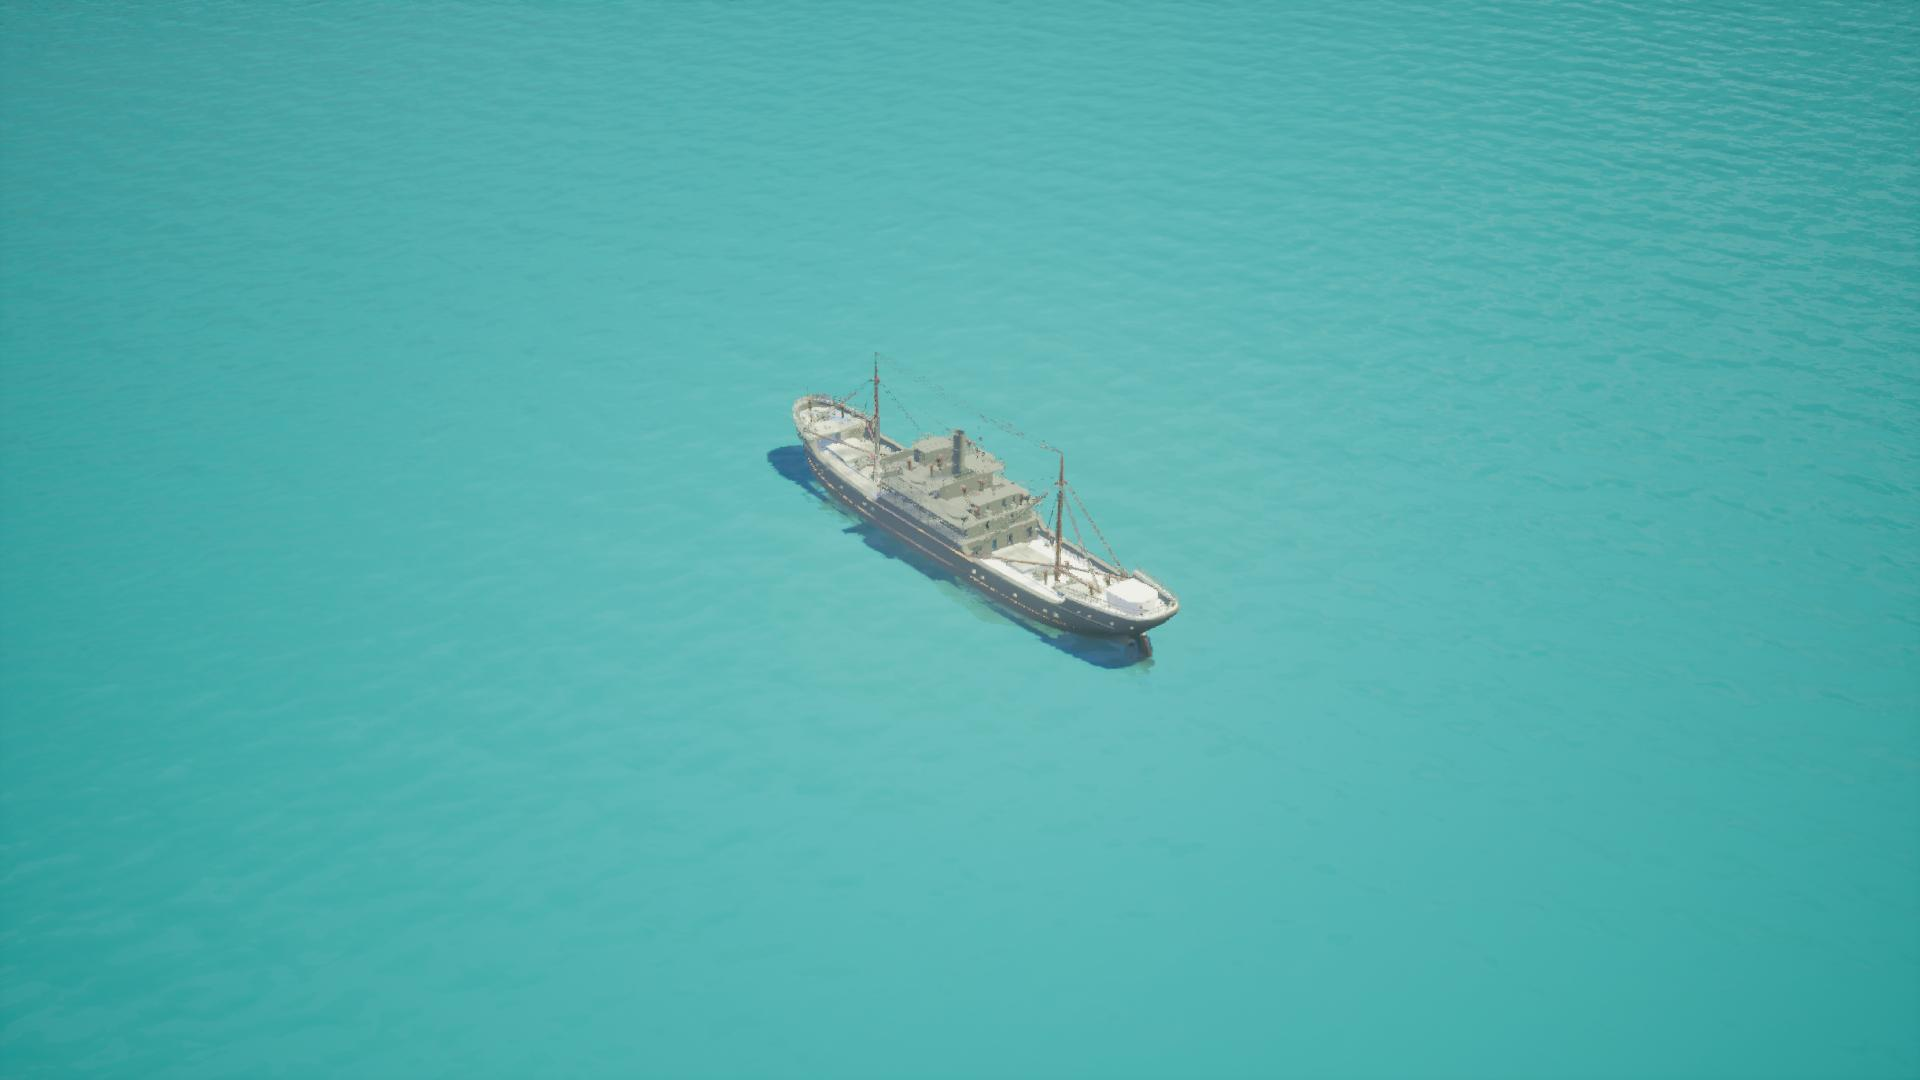Fishing Boat: (761, 360, 1180, 667)
